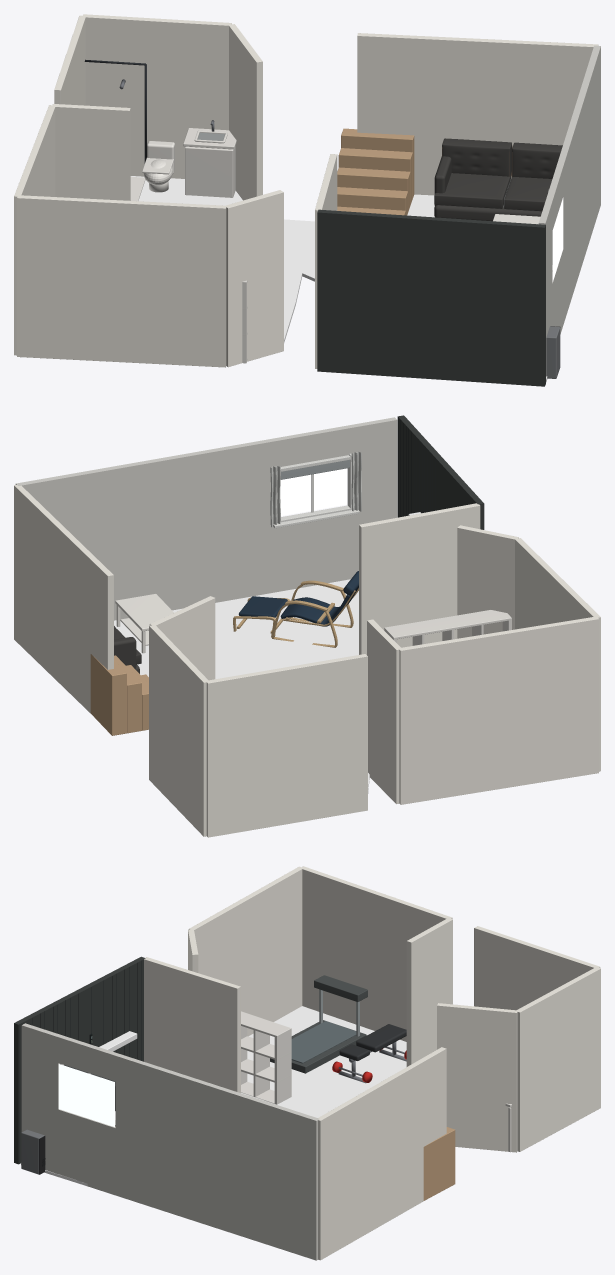
3 renders of one model, top to bottom at view 1: azimuth 30°, elevation 25°; view 2: azimuth 150°, elevation 25°; view 3: azimuth 270°, elevation 25°, orthographic. The views are drawn at different scales.
Visible parts, largest first — view 1: source-wall-8-replacement, home-lower-level_observed_wall_0_panel, home-lower-level_observed_wall_6_panel, home-lower-level_observed_wall_4_panel, home-lower-level_observed_wall_10_panel, home-lower-level_observed_wall_2_panel, actual-window-cutout-wall-right, home-lower-level_observed_wall_5_panel, home-lower-level_independently_traced_floor, home-lower-level_observed_wall_1_panel, home-lower-level__bath_vanity__cabinet, home-lower-level__lounge_sofa__back_0__source_closed (+18 smaller); view 2: home-lower-level_observed_wall_1_panel, actual-window-cutout-wall-right, home-lower-level_observed_wall_3_panel, home-lower-level_observed_wall_6_panel, home-lower-level_observed_wall_9_panel, home-lower-level_observed_wall_4_panel, home-lower-level_independently_traced_floor, home-lower-level_observed_wall_10_panel, home-lower-level_observed_wall_2_panel, source-wall-8-replacement, actual-window-cutout-wall-below, actual-window-cutout-wall-left (+14 smaller); view 3: actual-window-cutout-wall-right, home-lower-level_observed_wall_6_panel, home-lower-level_observed_wall_1_panel, home-lower-level_observed_wall_4_panel, home-lower-level_observed_wall_0_panel, home-lower-level_observed_wall_5_panel, home-lower-level_observed_wall_9_panel, source-wall-8-replacement, home-lower-level_observed_wall_3_panel, home-lower-level_independently_traced_floor, home-lower-level_observed_wall_2_panel, actual-window-cutout-wall-left (+12 smaller).
Boxes of the visible parts, bbox=[...] form: source-wall-8-replacement: bbox=[317, 209, 545, 386]; home-lower-level_observed_wall_0_panel: bbox=[17, 195, 226, 367]; home-lower-level_observed_wall_6_panel: bbox=[357, 33, 598, 195]; home-lower-level_observed_wall_4_panel: bbox=[83, 14, 231, 178]; home-lower-level_observed_wall_10_panel: bbox=[226, 190, 283, 367]; home-lower-level_observed_wall_2_panel: bbox=[52, 104, 130, 200]; actual-window-cutout-wall-right: bbox=[556, 45, 600, 324]; home-lower-level_observed_wall_5_panel: bbox=[229, 24, 262, 200]; home-lower-level_independently_traced_floor: bbox=[130, 176, 547, 382]; home-lower-level_observed_wall_1_panel: bbox=[14, 105, 55, 355]; home-lower-level__bath_vanity__cabinet: bbox=[185, 146, 235, 197]; home-lower-level__lounge_sofa__back_0__source_closed: bbox=[442, 138, 511, 176]; home-lower-level_observed_wall_1_panel: bbox=[399, 617, 598, 804]; actual-window-cutout-wall-right: bbox=[15, 438, 276, 620]; home-lower-level_observed_wall_3_panel: bbox=[206, 654, 367, 837]; home-lower-level_observed_wall_6_panel: bbox=[14, 485, 113, 713]; home-lower-level_observed_wall_9_panel: bbox=[359, 503, 480, 654]; home-lower-level_observed_wall_4_panel: bbox=[149, 624, 207, 836]; home-lower-level_independently_traced_floor: bbox=[114, 579, 369, 793]; home-lower-level_observed_wall_10_panel: bbox=[457, 525, 518, 638]; home-lower-level_observed_wall_2_panel: bbox=[367, 619, 401, 803]; source-wall-8-replacement: bbox=[397, 415, 484, 529]; actual-window-cutout-wall-below: bbox=[276, 505, 350, 592]; actual-window-cutout-wall-left: bbox=[348, 417, 397, 579]; actual-window-cutout-wall-right: bbox=[115, 1054, 319, 1260]; home-lower-level_observed_wall_6_panel: bbox=[318, 1047, 446, 1260]; home-lower-level_observed_wall_1_panel: bbox=[302, 866, 452, 1041]; home-lower-level_observed_wall_4_panel: bbox=[515, 967, 600, 1151]; home-lower-level_observed_wall_0_panel: bbox=[188, 866, 303, 1036]; home-lower-level_observed_wall_5_panel: bbox=[437, 1003, 517, 1152]; home-lower-level_observed_wall_9_panel: bbox=[144, 957, 240, 1092]; source-wall-8-replacement: bbox=[14, 956, 145, 1164]; home-lower-level_observed_wall_3_panel: bbox=[474, 926, 600, 1010]; home-lower-level_independently_traced_floor: bbox=[21, 1006, 406, 1186]; home-lower-level_observed_wall_2_panel: bbox=[406, 918, 452, 1066]; actual-window-cutout-wall-left: bbox=[21, 1023, 61, 1173].
Bounding box in the file's own units: 8.99 × 2.3 × 8.76.
